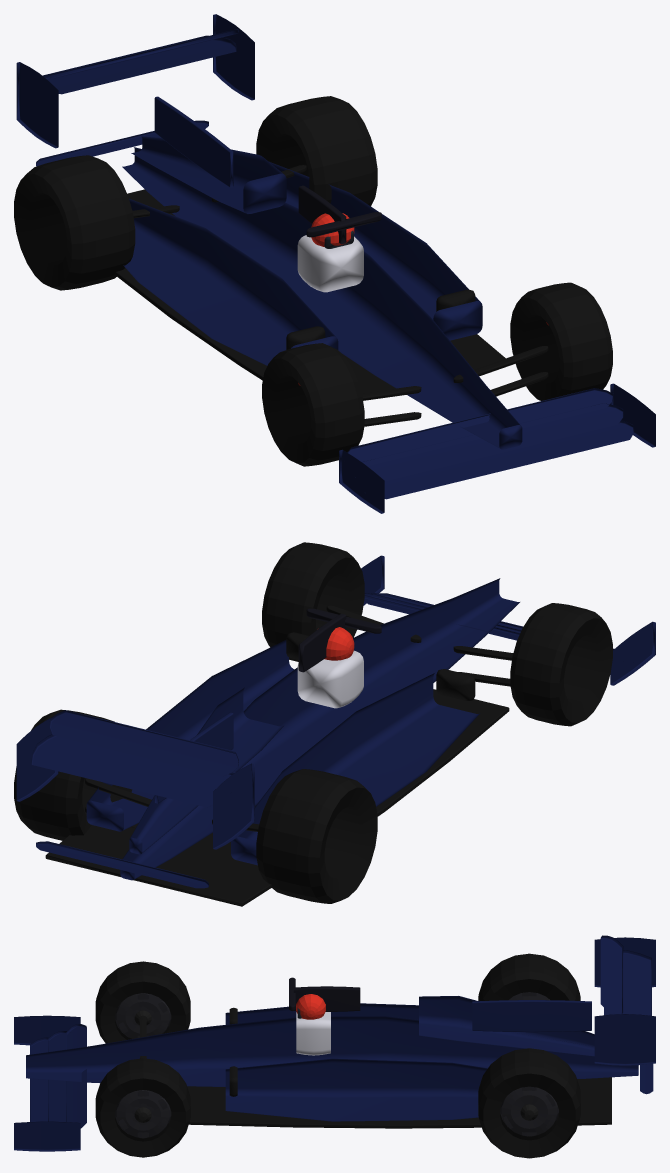
File: redbull_rb22.glb
The picture shows the model from 3 angles, top to bottom: view 1: azimuth 30°, elevation 25°; view 2: azimuth 150°, elevation 25°; view 3: azimuth 270°, elevation 25°; orthographic projection. The views are drawn at different scales.
Parts seen in each view (by area): view 1: root, wheelRL, wheelFL, wheelFR, wheelRR; view 2: root, wheelRL, wheelFL, wheelFR, wheelRR; view 3: root, wheelRR, wheelFR, wheelFL, wheelRL.
Boxes of the visible parts, x1,y1,x2,y2 form: root: [16, 14, 655, 513]; wheelRL: [14, 155, 135, 290]; wheelFL: [262, 343, 364, 466]; wheelFR: [510, 282, 612, 400]; wheelRR: [256, 96, 377, 206]; root: [16, 555, 655, 906]; wheelRL: [256, 769, 377, 903]; wheelFL: [510, 603, 612, 726]; wheelFR: [262, 542, 364, 661]; wheelRR: [14, 709, 132, 840]; root: [14, 935, 655, 1151]; wheelRR: [478, 1048, 580, 1158]; wheelFR: [95, 1058, 190, 1157]; wheelFL: [95, 961, 190, 1043]; wheelRL: [478, 953, 580, 1000].
Bounding box in the file's own units: 2.12 × 1.11 × 4.82.
